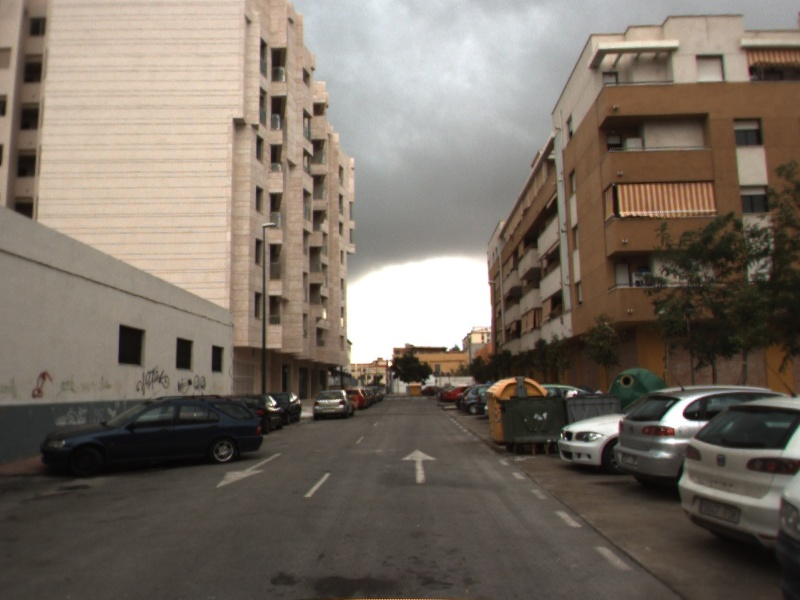STRAIGHT: (398, 446, 442, 486)
